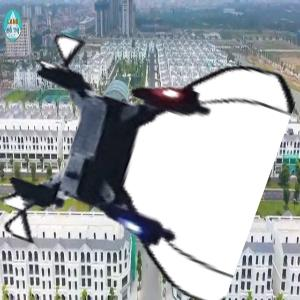drone: (3, 27, 269, 293)
